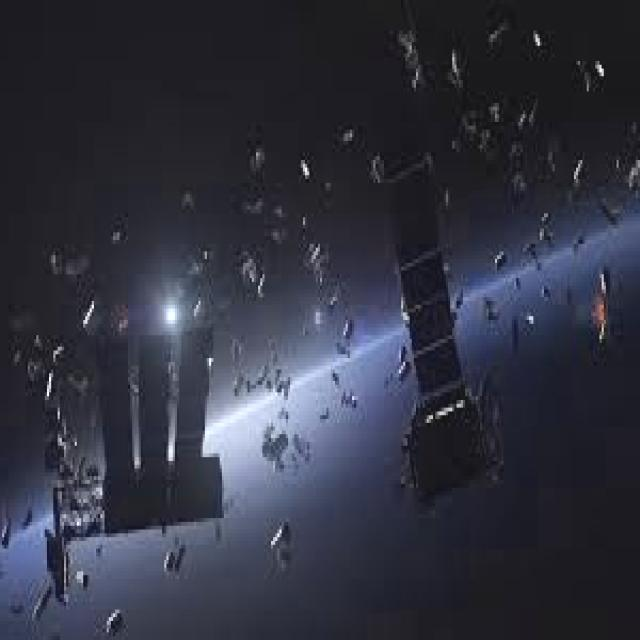large_debris: (286, 42, 608, 472), (29, 216, 252, 606)
